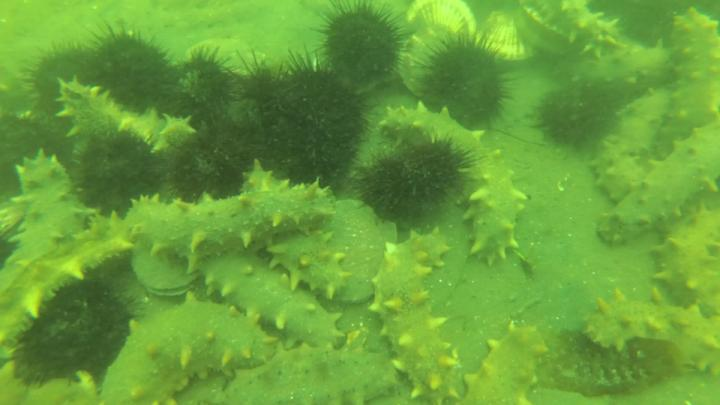echinus: (258, 56, 370, 181), (10, 279, 131, 389), (356, 140, 476, 222), (417, 36, 512, 127), (313, 1, 406, 88), (85, 27, 176, 113), (78, 126, 168, 211), (532, 85, 619, 152), (158, 51, 235, 122), (27, 44, 106, 112), (1, 110, 63, 194), (167, 138, 247, 201)
holothurian: (375, 104, 531, 267), (126, 163, 332, 274), (99, 291, 281, 405), (2, 212, 142, 348), (374, 225, 463, 405), (594, 123, 720, 249), (197, 334, 399, 405), (201, 253, 350, 349), (582, 284, 720, 382), (54, 74, 204, 154), (592, 79, 675, 205), (660, 4, 720, 158), (10, 147, 85, 266), (459, 319, 554, 405), (655, 203, 720, 318), (558, 41, 677, 98), (269, 226, 355, 300), (528, 1, 630, 58)
scallop: (335, 197, 402, 304), (513, 1, 590, 59), (396, 29, 458, 101), (472, 7, 542, 70), (129, 249, 201, 300), (404, 1, 483, 41), (185, 38, 270, 75)
